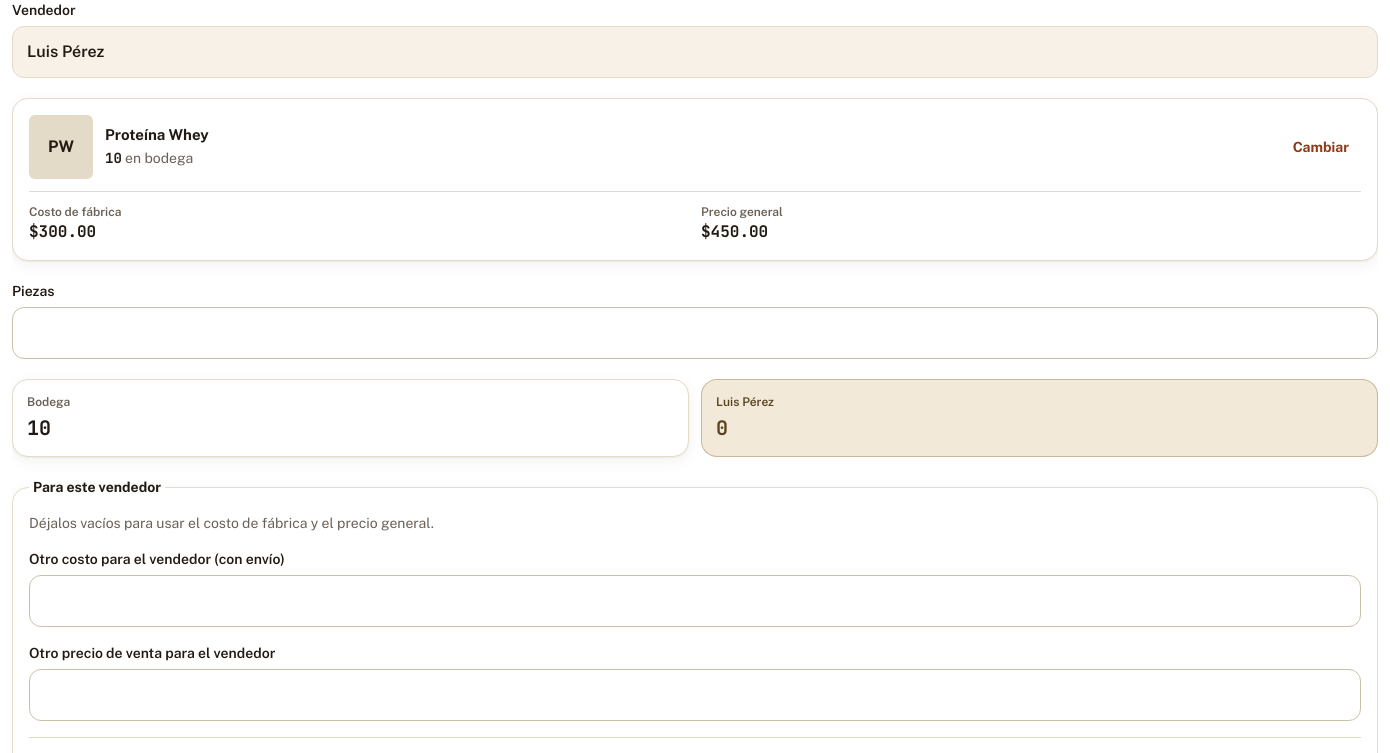
Test: DeliveryFormComponent › muestra el mensaje de cada campo de dinero: mayor a 0, decimales y monto grande
Type "1" into the field labelled "Piezas". click: (695, 333)
box: [12, 307, 1378, 359]
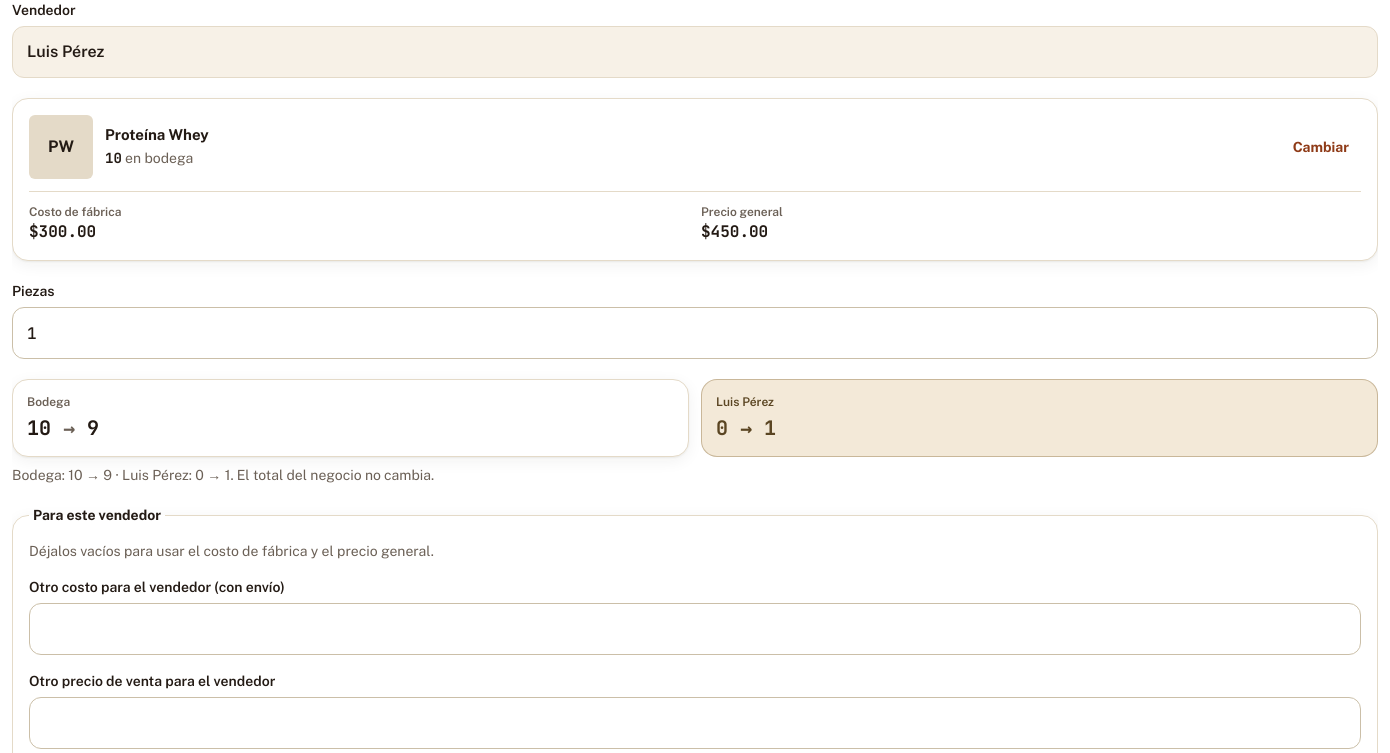
Type "0" into the field with id "unit-cost". click: (695, 629)
box: [29, 603, 1361, 655]
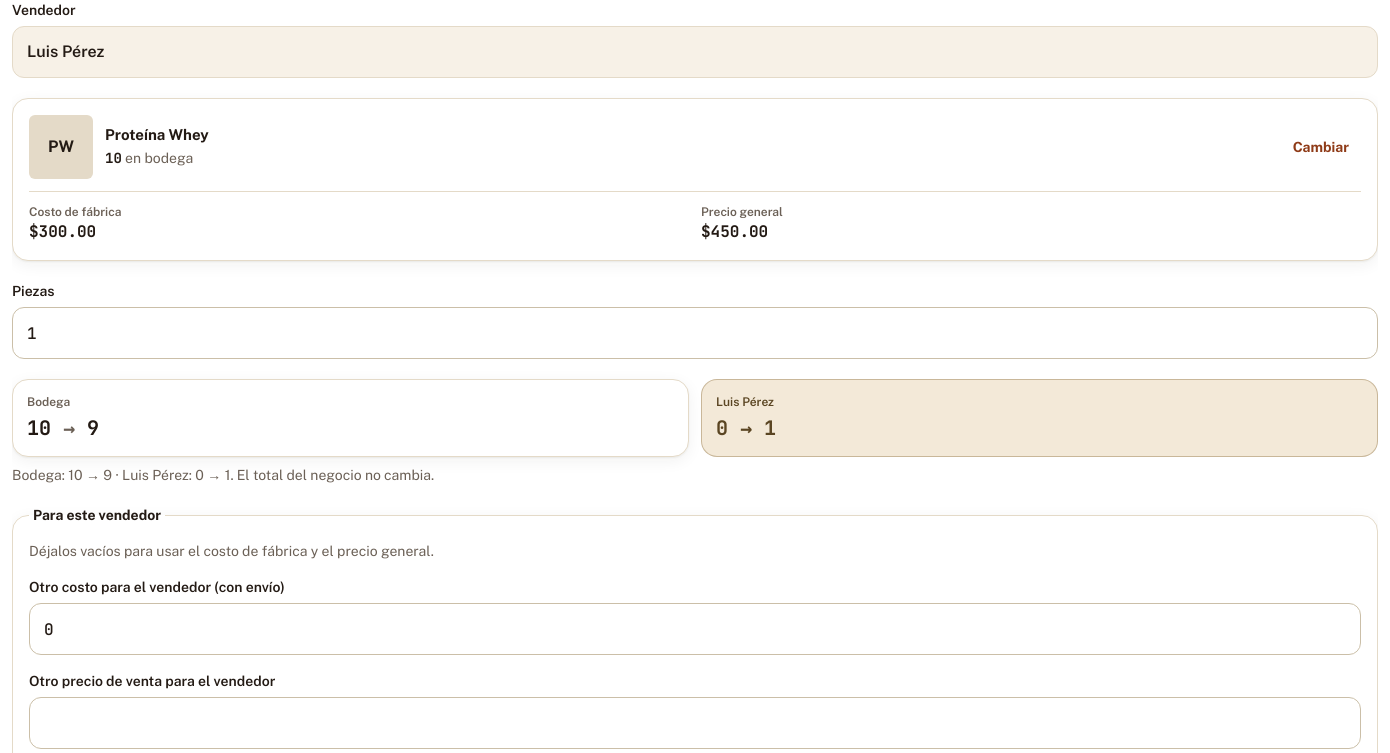
Type "100000000" into the field with id "unit-price". click: (695, 723)
box: [29, 697, 1361, 749]
(page scrolled)
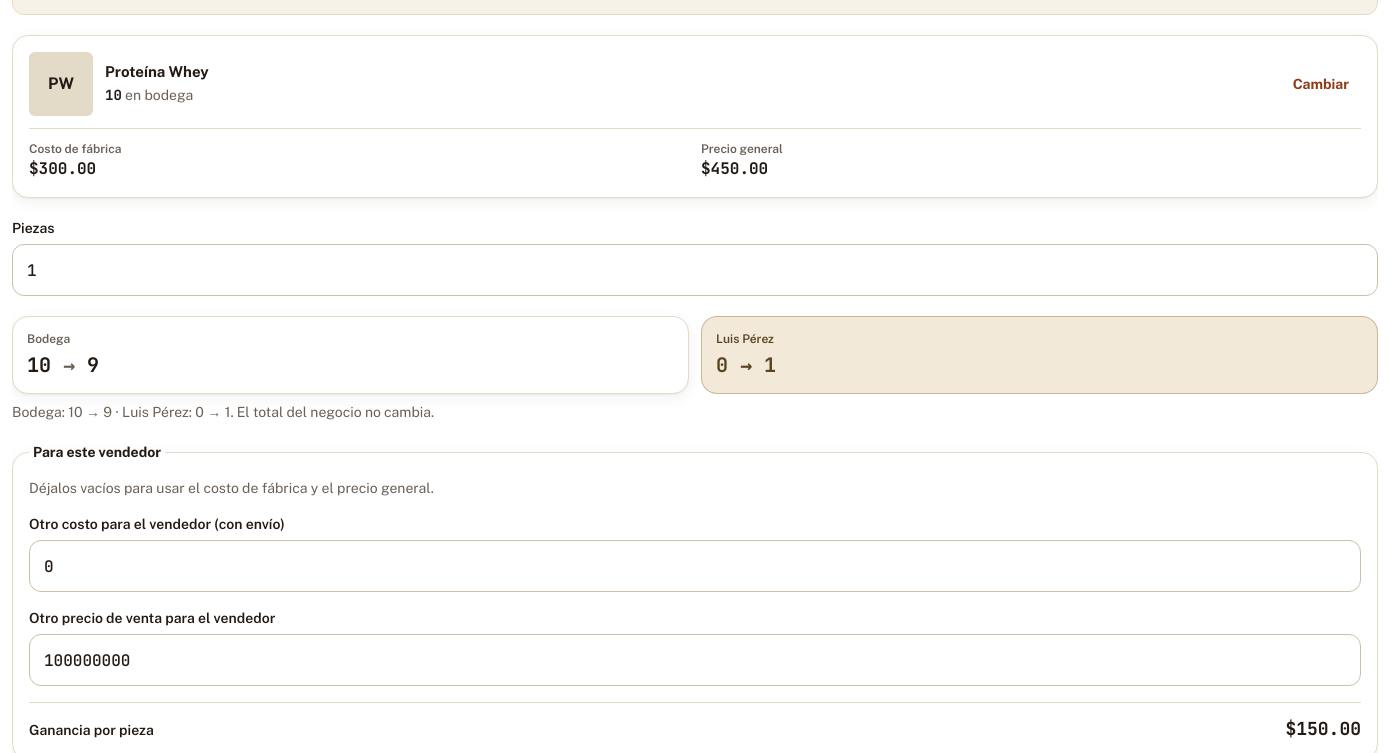
Submit the form
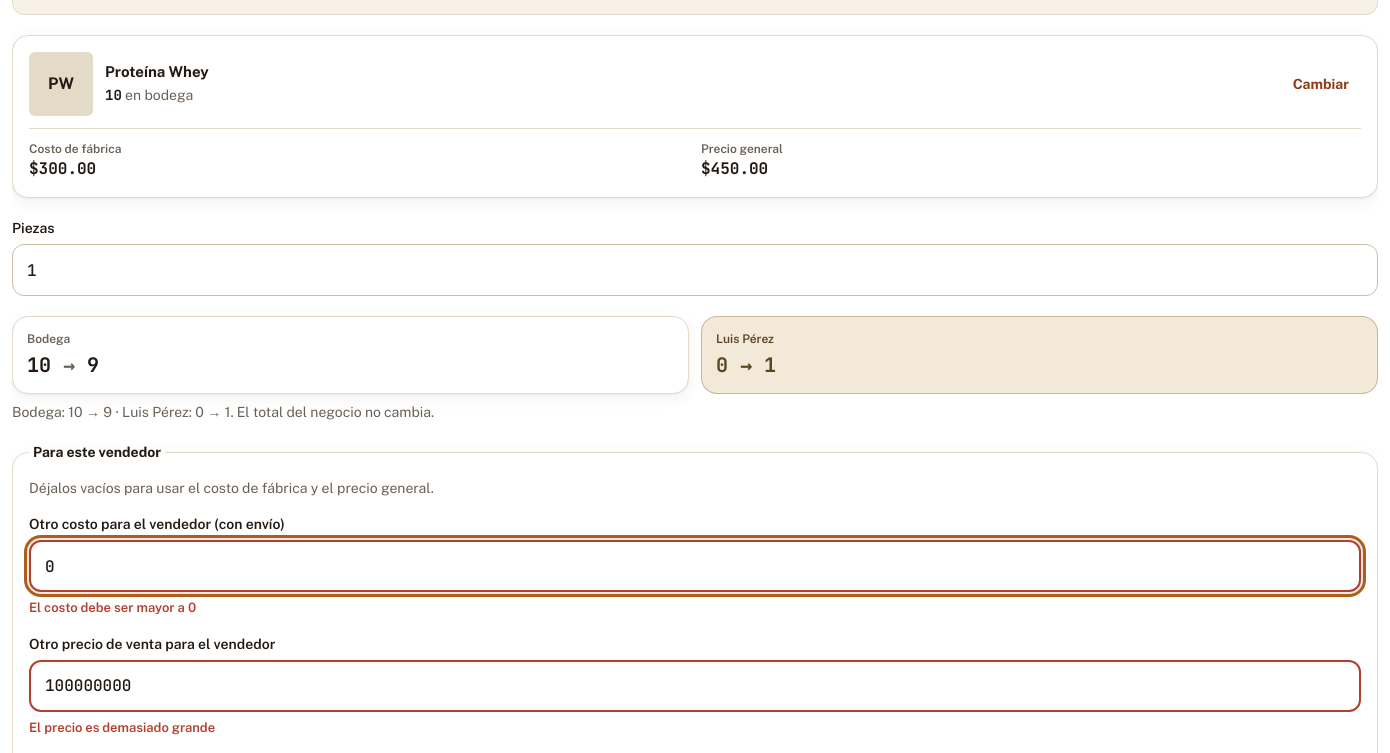
Replace the text in the field with id "unit-cost" with "1.23456". click: (695, 566)
box: [29, 540, 1361, 592]
(page scrolled)
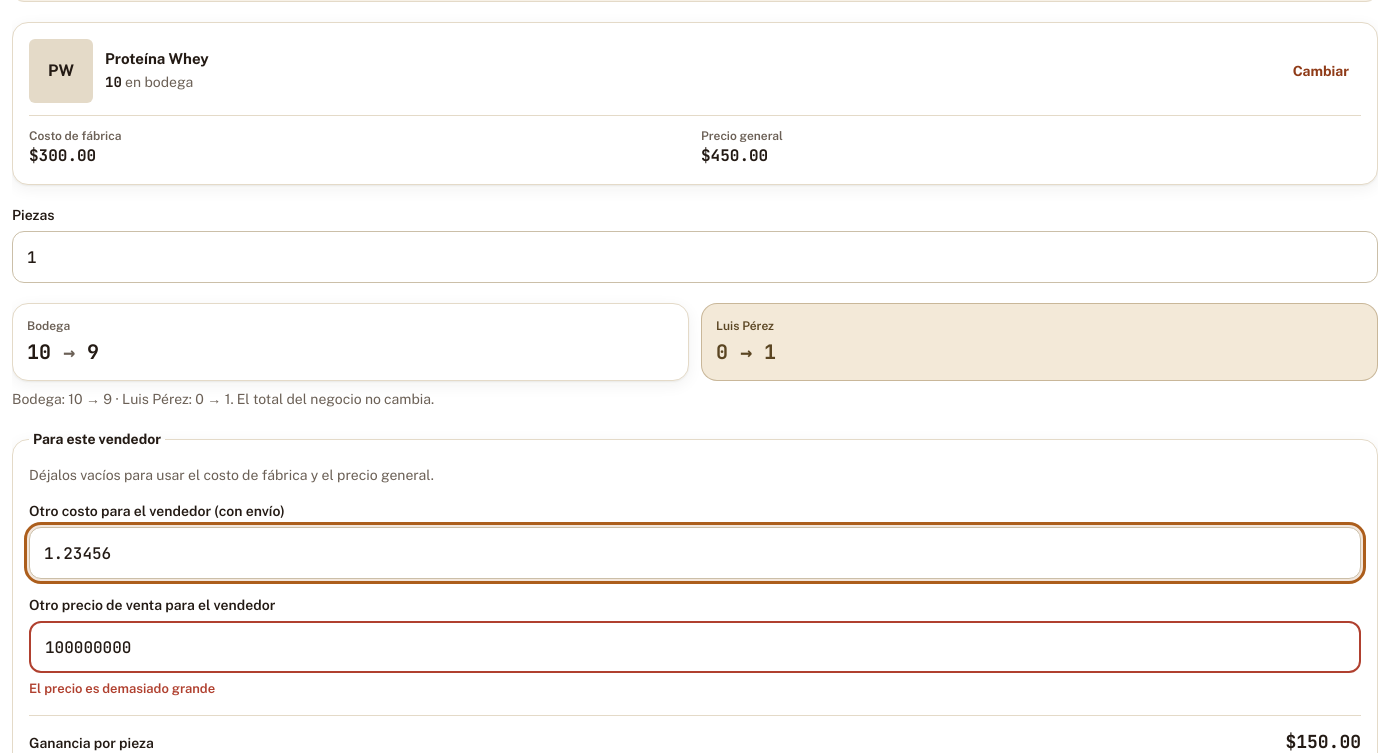
Submit the form
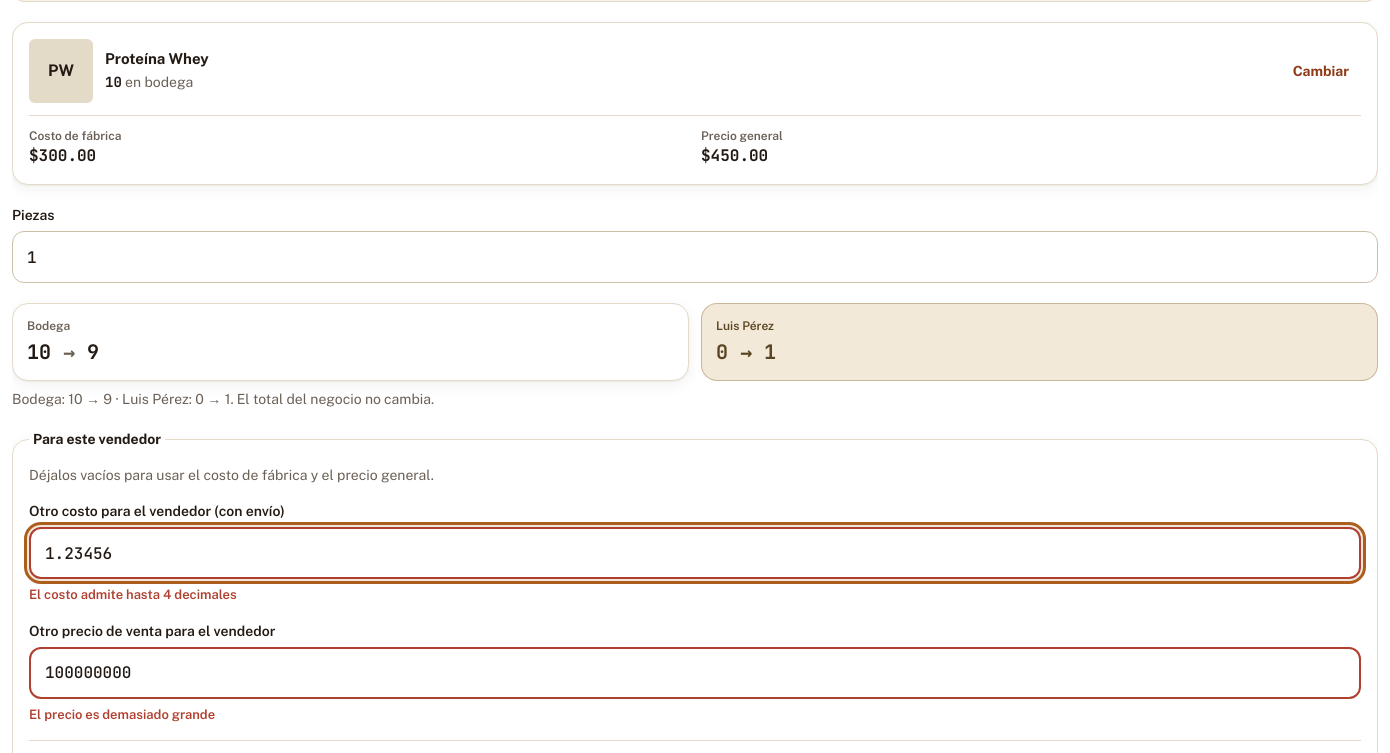
Check: the message with class "field-error" reads "El costo admite hasta 4 decimales", box [29, 587, 237, 602]
